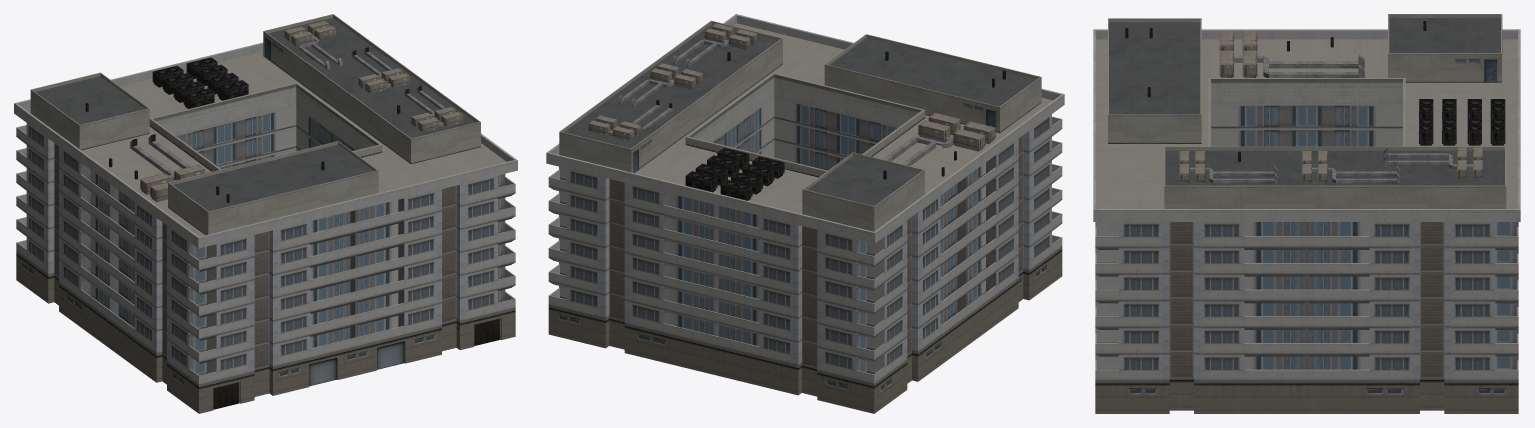
3 renders of one model, left to right at view 1: azimuth 30°, elevation 25°; view 2: azimuth 150°, elevation 25°; view 3: azimuth 270°, elevation 25°, orthographic. The views are drawn at different scales.
Parts seen in each view (by area): view 1: LOWRISEMODERNCONDO2; view 2: LOWRISEMODERNCONDO2; view 3: LOWRISEMODERNCONDO2.
Boxes of the visible parts, x1,y1,x2,y2 form: LOWRISEMODERNCONDO2: [14, 14, 517, 413]; LOWRISEMODERNCONDO2: [546, 14, 1064, 413]; LOWRISEMODERNCONDO2: [1093, 14, 1520, 413].
Size of the model in its own units: 4360 by 2600 by 4360.
1 material, 1 textured.
